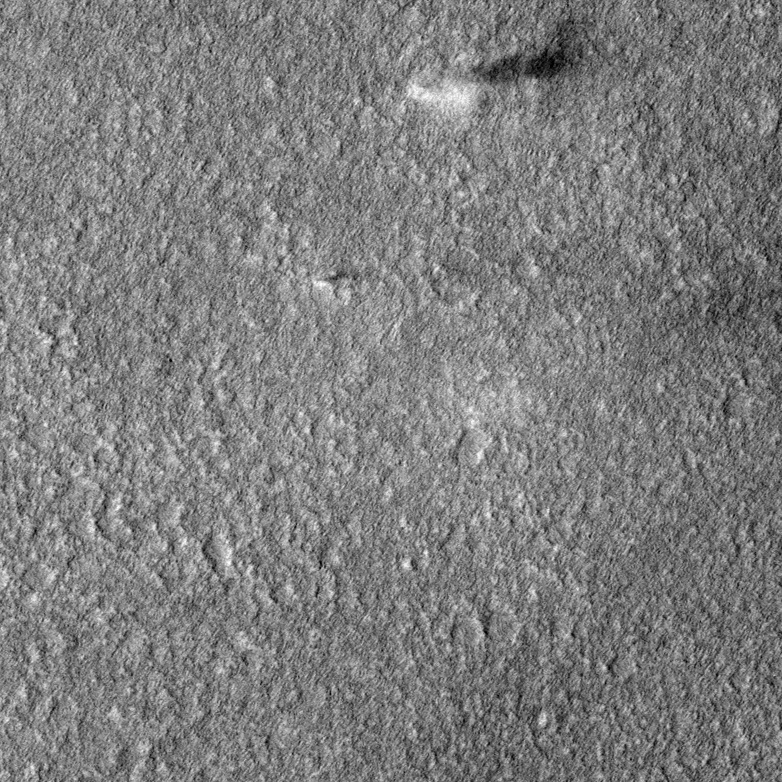dust_devil: (402, 19, 594, 118), (311, 268, 358, 291)
